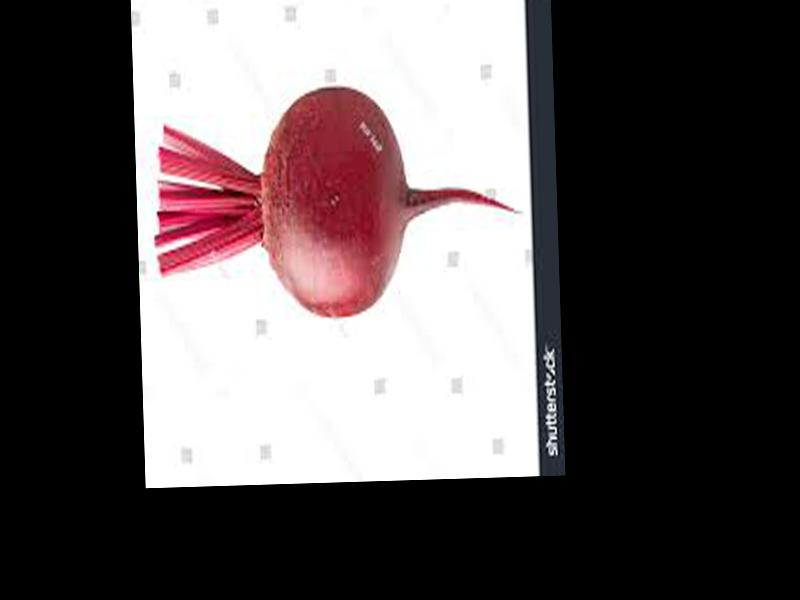Beet: (152, 81, 524, 322)
